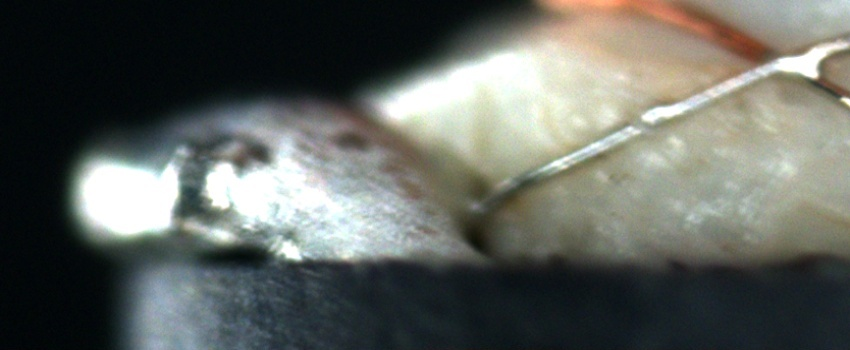CL: (729, 29, 820, 89)
TS: (470, 56, 783, 218)
